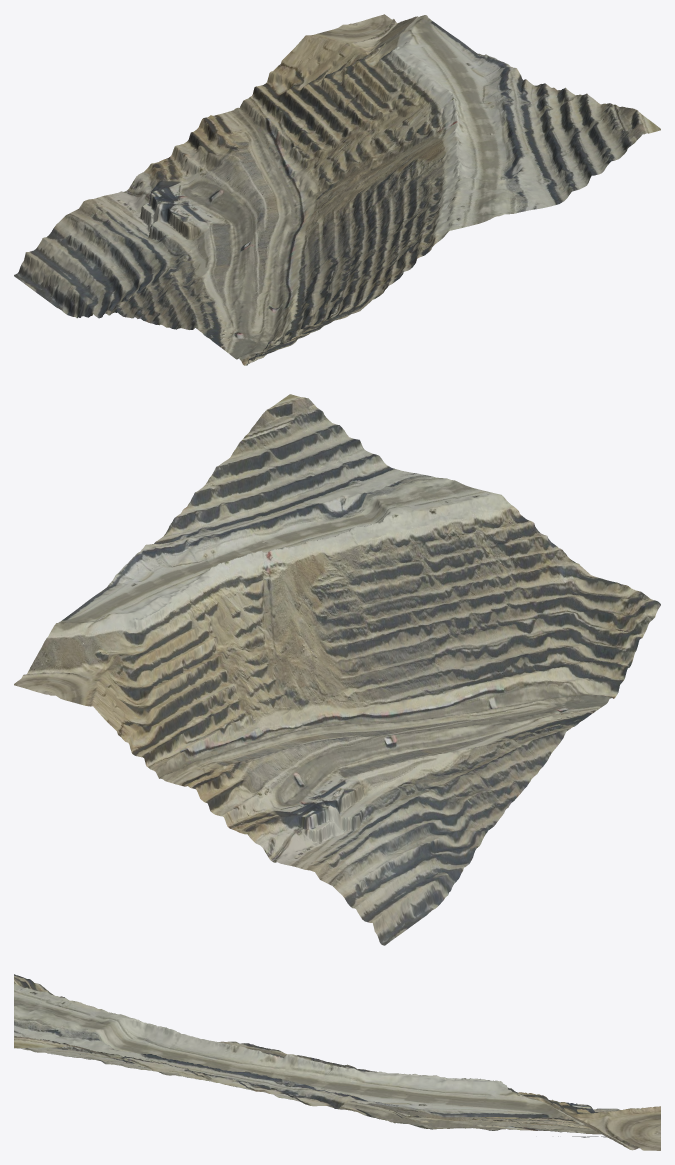
3 renders of one model, top to bottom at view 1: azimuth 30°, elevation 25°; view 2: azimuth 150°, elevation 25°; view 3: azimuth 270°, elevation 25°, orthographic. The views are drawn at different scales.
Parts seen in each view (by area): view 1: l2-3-1; view 2: l2-3-1; view 3: l2-3-1.
Boxes of the visible parts, x1,y1,x2,y2 form: l2-3-1: (14,14,660,365); l2-3-1: (14,394,660,945); l2-3-1: (14,974,660,1150).
Size of the model in its own units: 595 by 400 by 768.
1 material, 1 textured.
